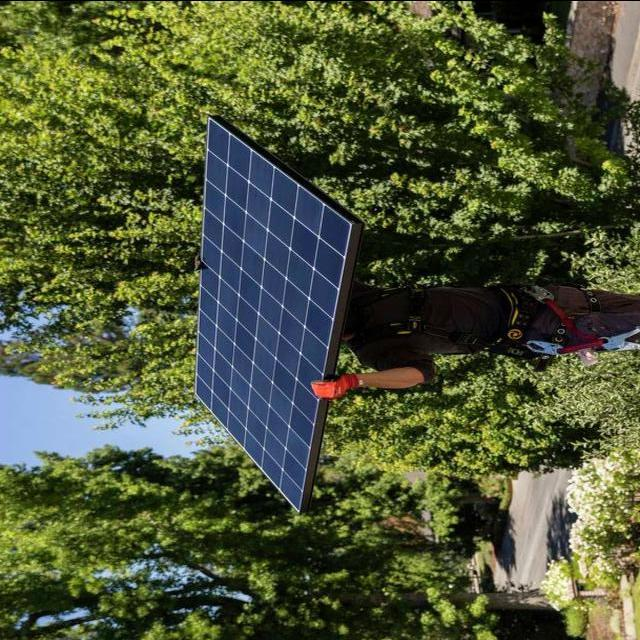no faulty: (188, 117, 347, 505)
